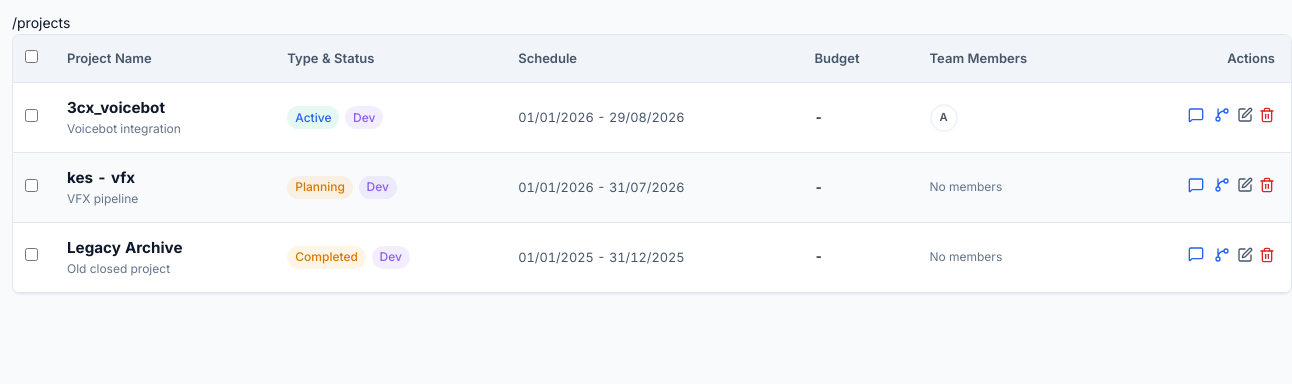
it: ProjectsListView › supports selecting multiple projects and applying Status or Set Ongoing
Later steps or results of the test are not shown.
Step 1. Click the checkbox named "Select all manageable projects" → (32,56), box [25,50,38,63]
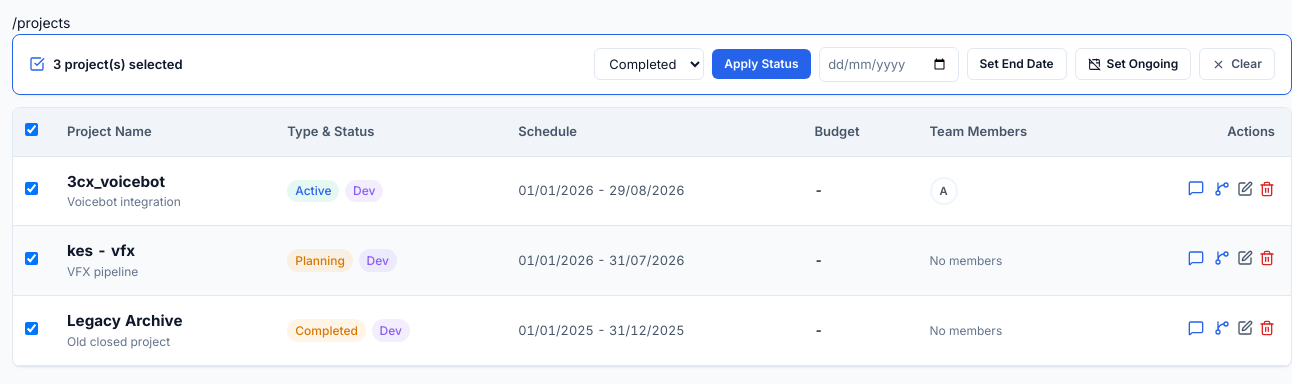
Check: the text "3 project(s) selected" is shown, box [53,54,183,74]
